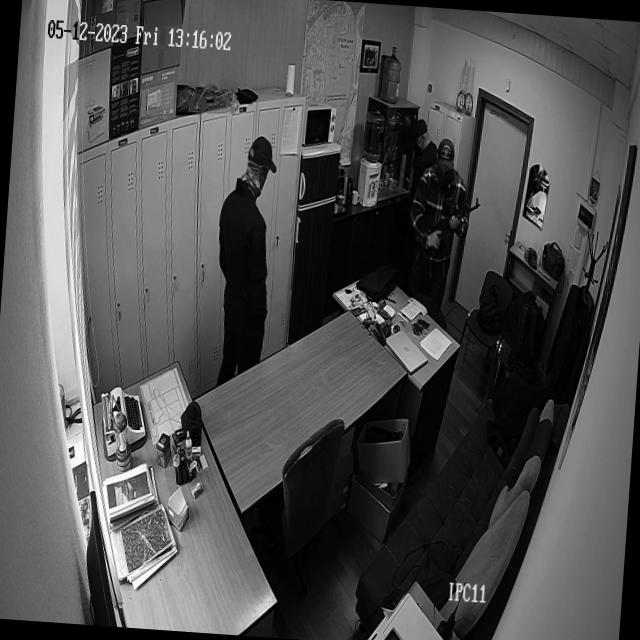gun: (421, 195, 480, 280)
person: (208, 137, 278, 389), (402, 123, 438, 236)
person with a gun: (402, 134, 485, 333)
